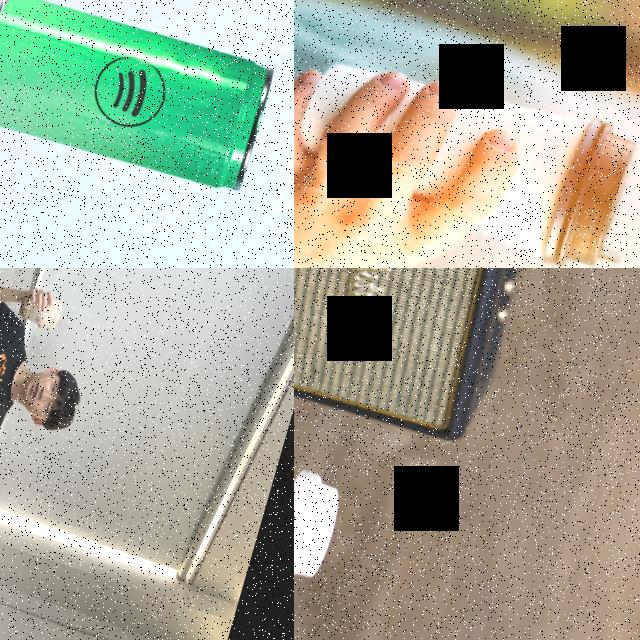can: (0, 0, 276, 197)
cup: (294, 38, 640, 268), (294, 422, 345, 588), (12, 283, 65, 332)
